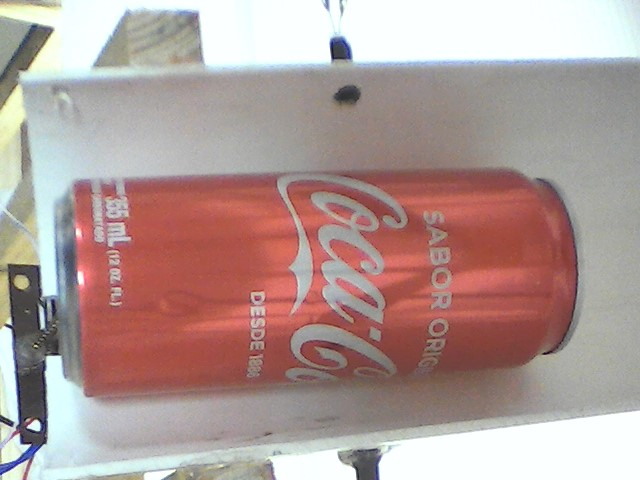lata: (51, 159, 589, 406)
